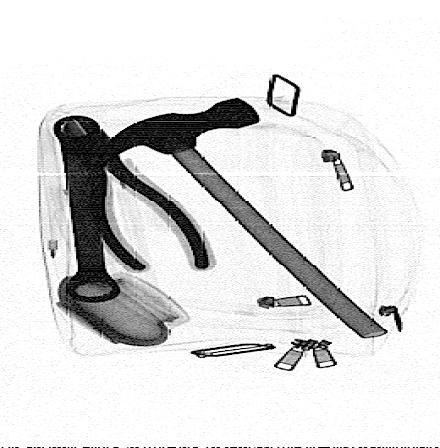Hammer: (96, 98, 396, 341)
Pliers: (60, 112, 219, 277)
Wrench: (56, 116, 127, 306)
